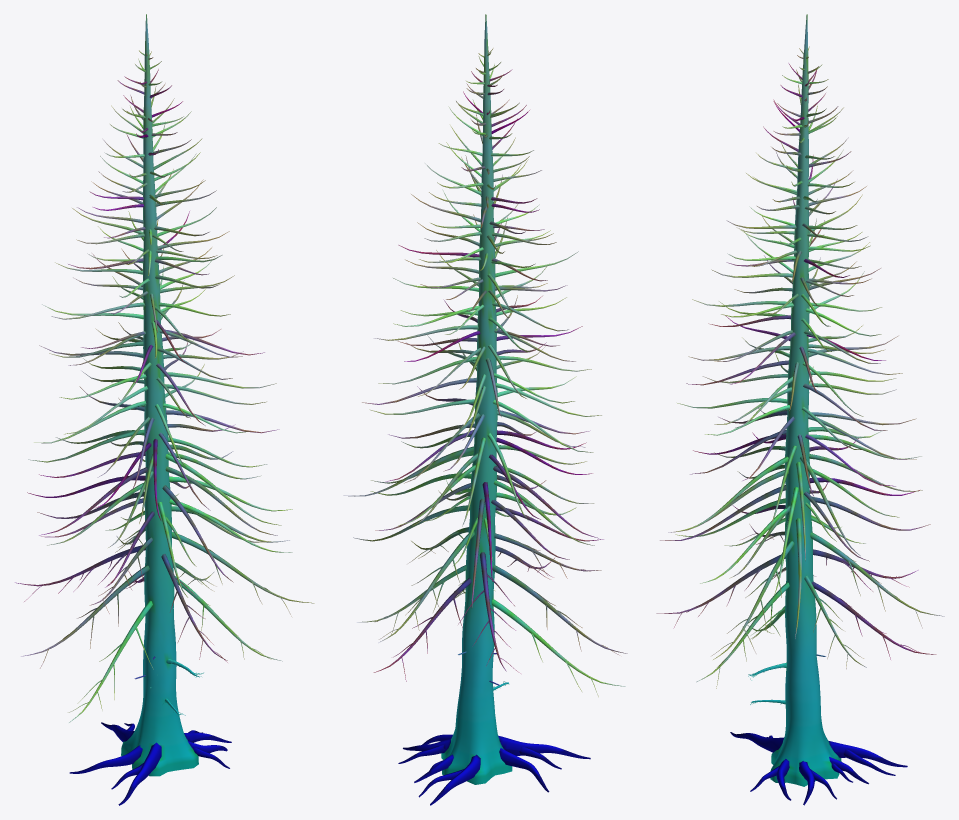
File: spruce-elder.glb
The picture shows the model from 3 angles, left to right: view 1: azimuth 30°, elevation 25°; view 2: azimuth 150°, elevation 25°; view 3: azimuth 270°, elevation 25°; orthographic projection.
Parts seen in each view (by area): view 1: bark; view 2: bark; view 3: bark.
Boxes of the visible parts, box(x1,y1,x2,y2) form: bark: box(15, 14, 314, 805); bark: box(343, 14, 627, 805); bark: box(656, 14, 944, 805).
Size of the model in its own units: 13.8 by 36.46 by 12.67.
